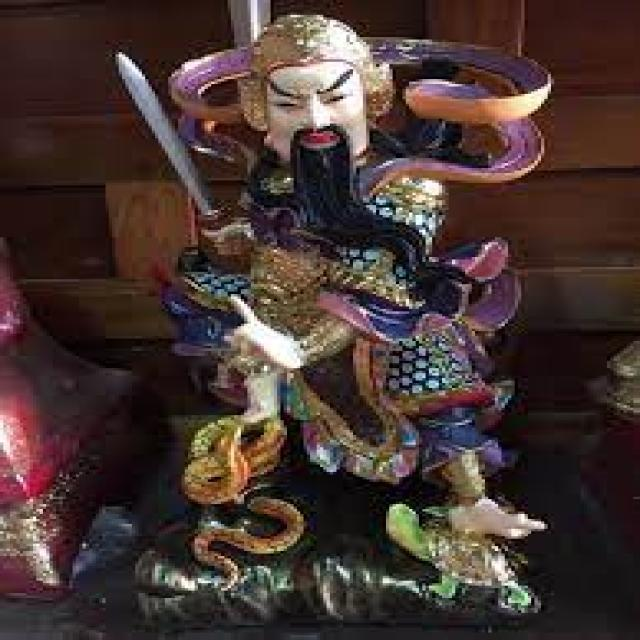Xuan wu: (137, 14, 548, 583)
